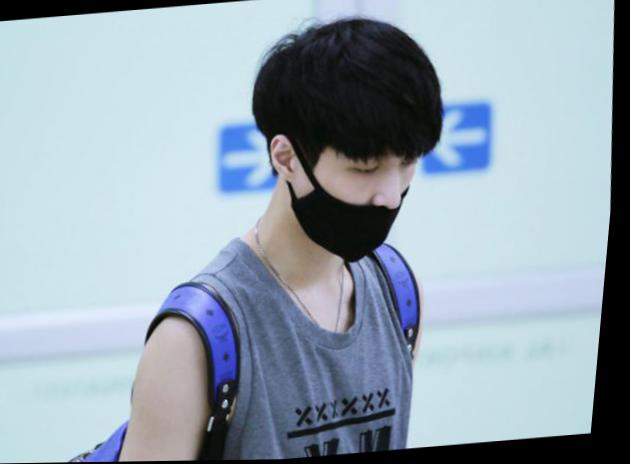WRONG: (302, 128, 433, 266)
